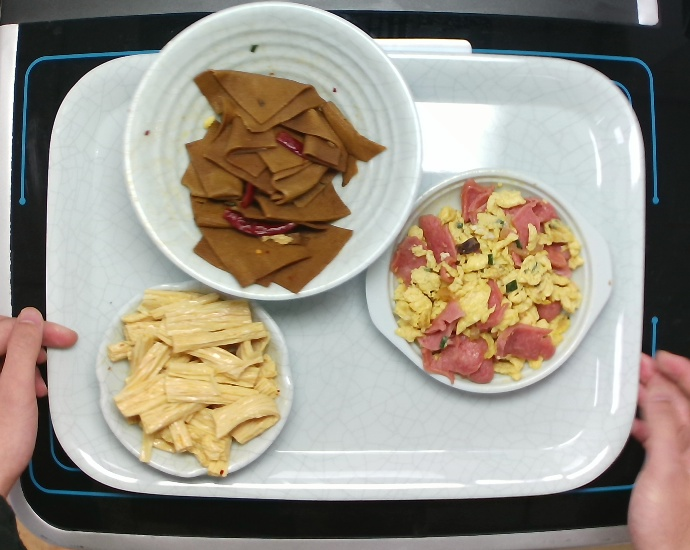JYsf-Ao_Yuan_Wan: (85, 276, 304, 486)
JYsf-Shuang_Er_Pan: (352, 165, 628, 404)
JYsf-Xiao_Tang_Wan: (118, 1, 432, 311)
